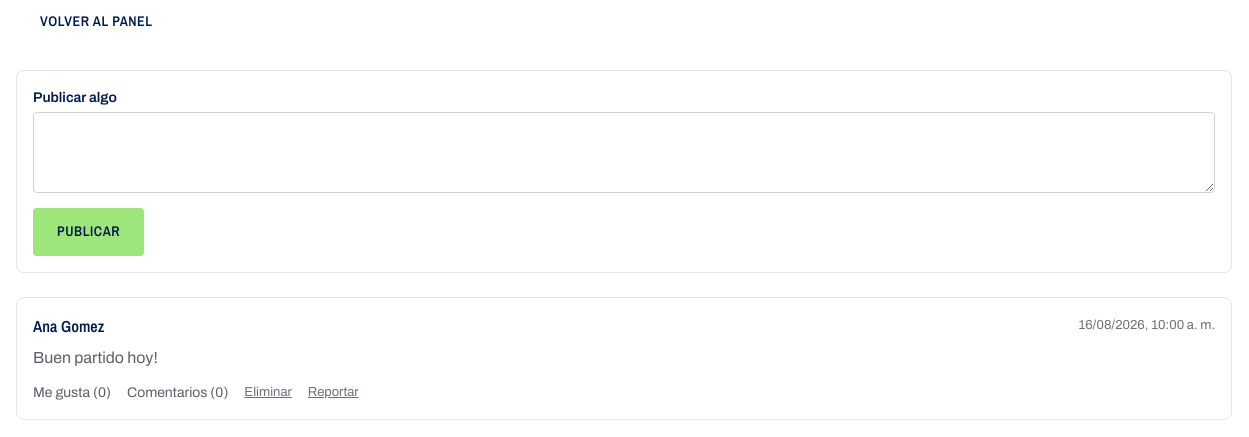
Test: CommunityPage › deleting a post removes it from the feed
Expected: the text "Buen partido hoy!" is shown, [33,349,158,366]
Click the button "Eliminar" at (268, 392), box [244,383,292,402]
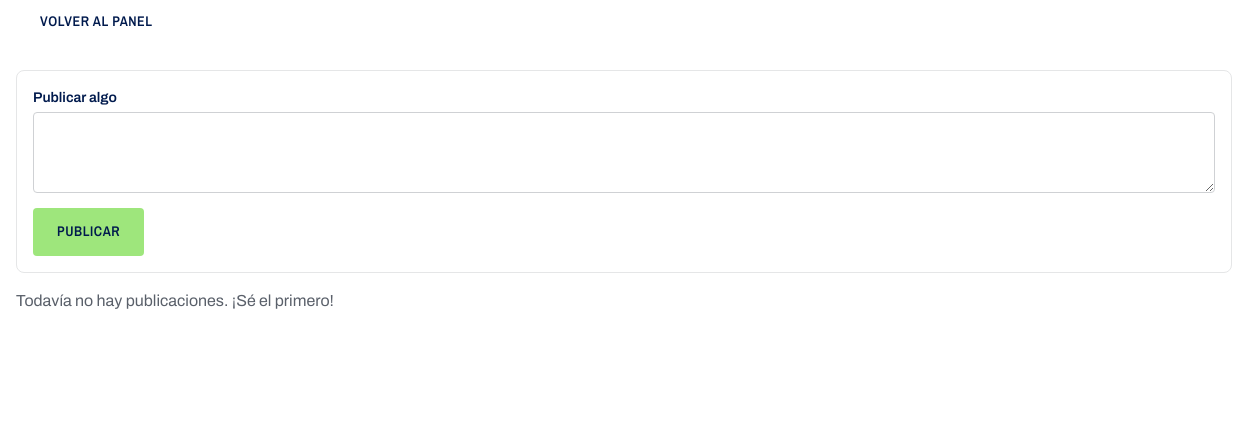
Expected: the text "Buen partido hoy!" is gone
